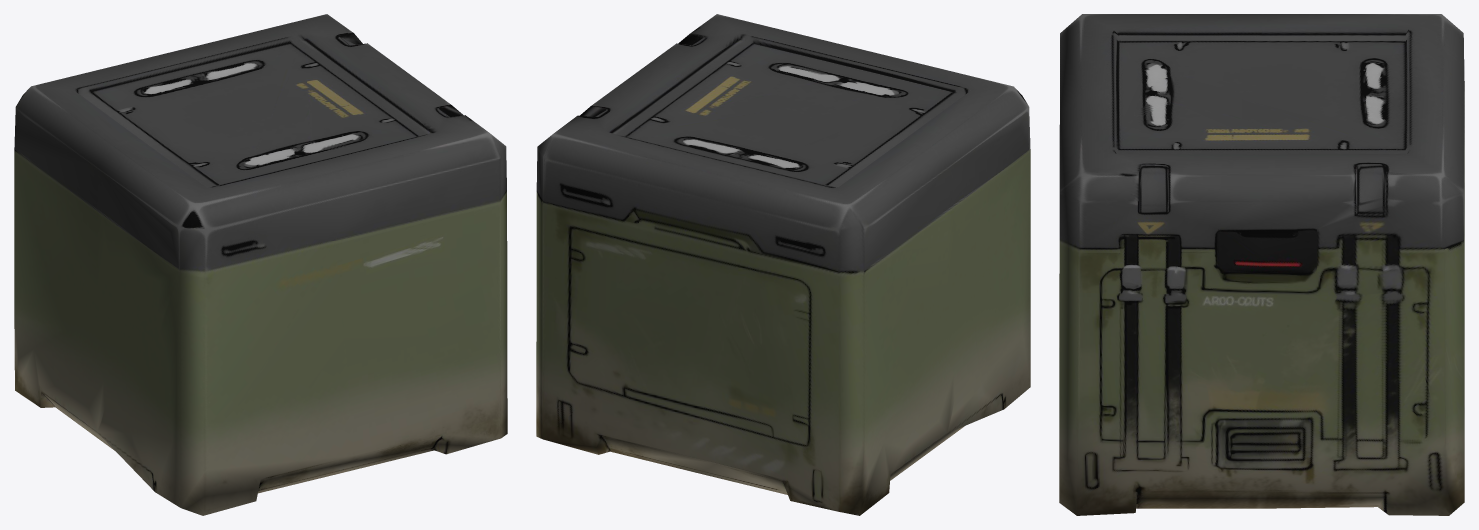
3 views of the same model, side by side, from view 1: azimuth 30°, elevation 25°; view 2: azimuth 150°, elevation 25°; view 3: azimuth 270°, elevation 25° (orthographic). The views are drawn at different scales.
Parts seen in each view (by area): view 1: tripo_node_ad1c2063; view 2: tripo_node_ad1c2063; view 3: tripo_node_ad1c2063.
Boxes of the visible parts, x1,y1,x2,y2 form: tripo_node_ad1c2063: (14, 14, 507, 515); tripo_node_ad1c2063: (536, 14, 1030, 515); tripo_node_ad1c2063: (1059, 14, 1464, 515).
Bounding box in the file's own units: 0.9995 × 0.875 × 0.9559.
1 material, 1 textured.
